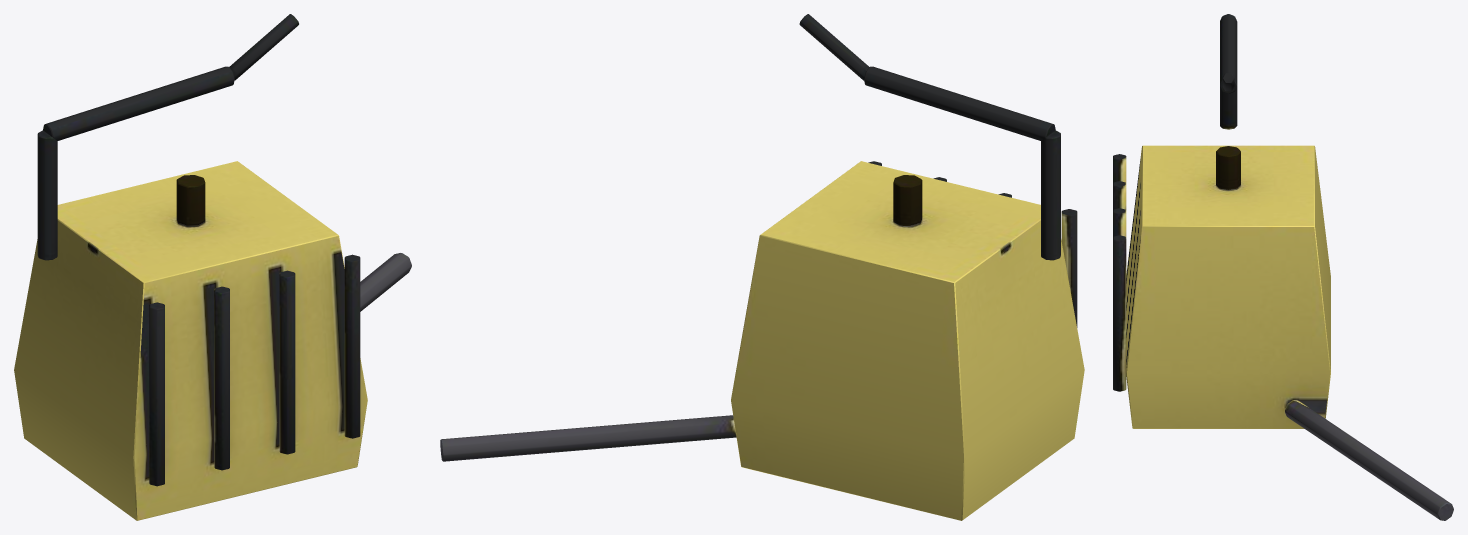
Rendered from IT_lamp_portable.glb.
The picture shows the model from 3 angles, left to right: view 1: azimuth 30°, elevation 25°; view 2: azimuth 150°, elevation 25°; view 3: azimuth 270°, elevation 25°; orthographic projection. The views are drawn at different scales.
Parts seen in each view (by area): view 1: IT_lamp_portable; view 2: IT_lamp_portable; view 3: IT_lamp_portable.
Boxes of the visible parts, left/top/right/bottom form: IT_lamp_portable: left=14, top=14, right=411, bottom=520; IT_lamp_portable: left=440, top=14, right=1084, bottom=520; IT_lamp_portable: left=1113, top=14, right=1453, bottom=520.
Size of the model in its own units: 0.762 by 0.6068 by 0.5324.
1 material, 1 textured.
